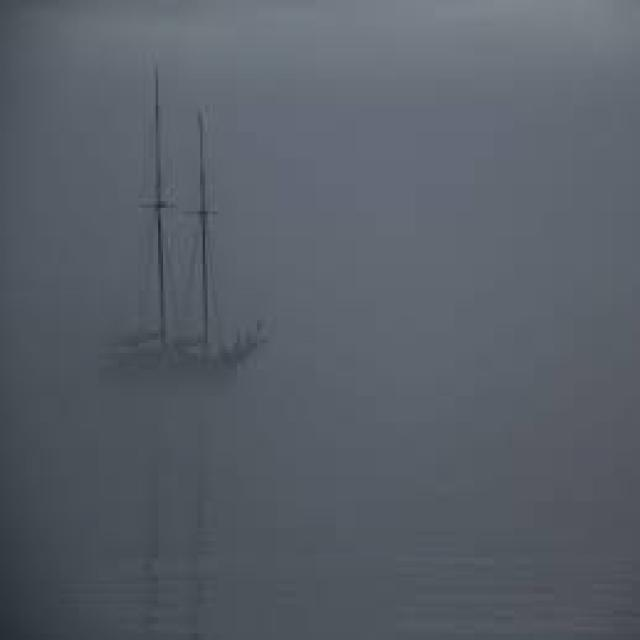fishing boat: (89, 56, 255, 422)
